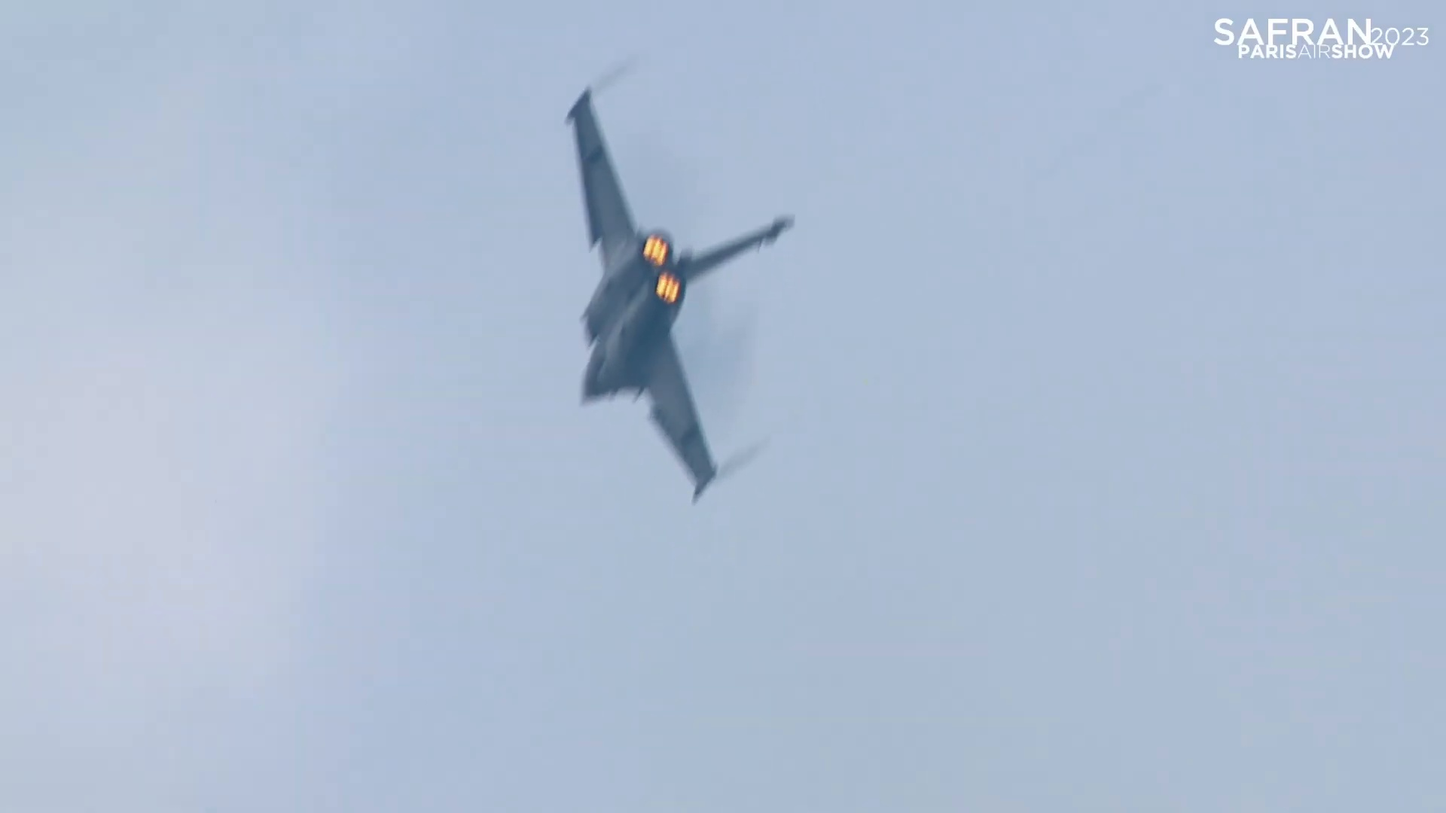Rafale: (564, 69, 798, 510)
